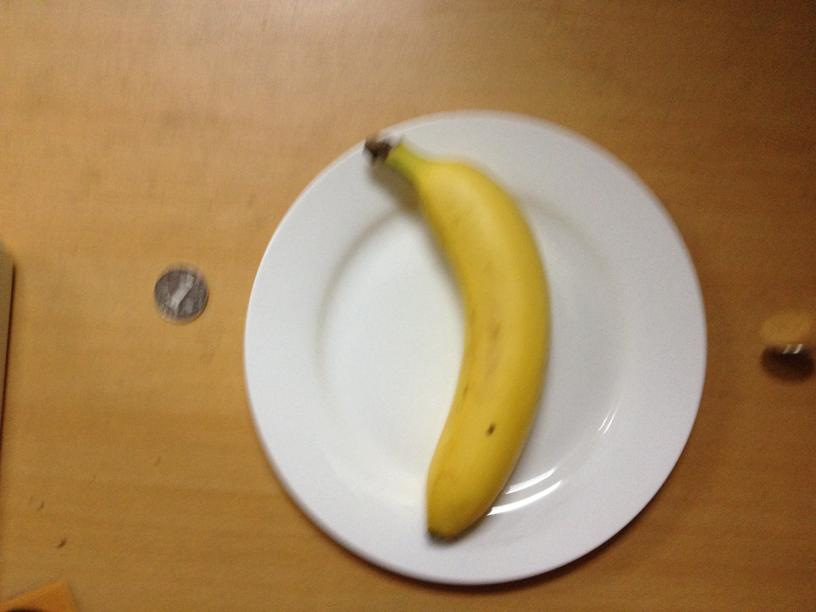banana: (367, 148, 552, 539)
coin: (149, 264, 212, 321)
